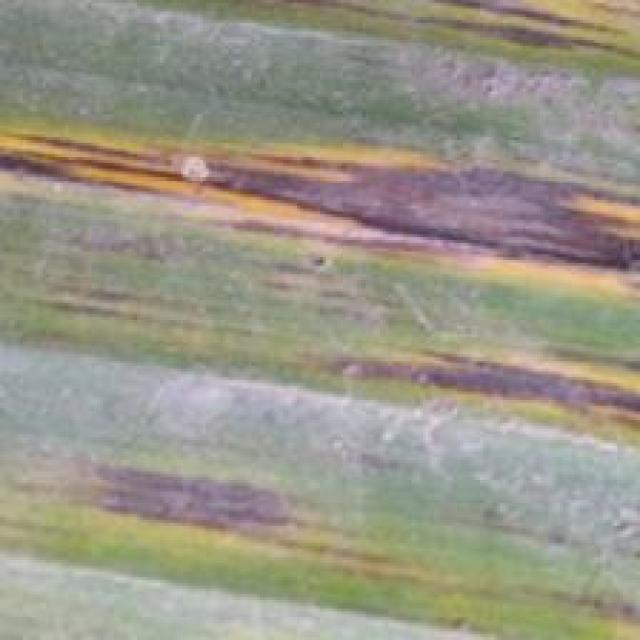Early_leaf_spot: (0, 105, 640, 276), (72, 264, 640, 448), (0, 411, 409, 602), (254, 0, 639, 94), (443, 503, 640, 640)
